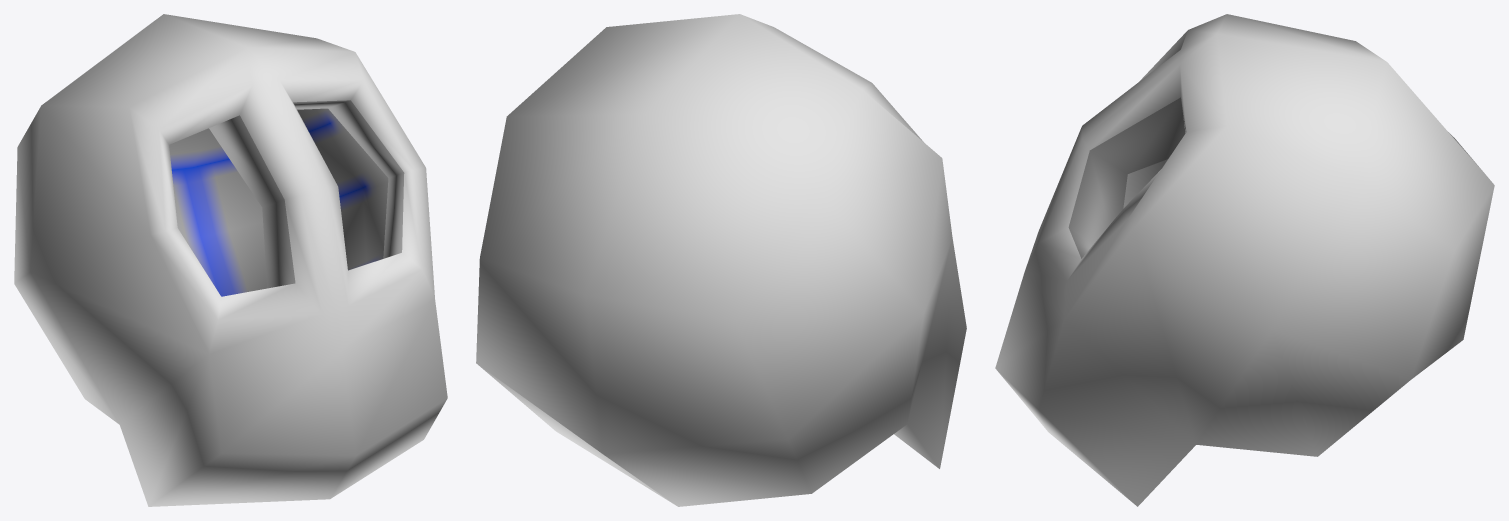
File: Skull1.fbx
3 views of the same model, side by side, from view 1: azimuth 30°, elevation 25°; view 2: azimuth 150°, elevation 25°; view 3: azimuth 270°, elevation 25° (orthographic). The views are drawn at different scales.
Parts seen in each view (by area): view 1: Cube; view 2: Cube; view 3: Cube.
Part boxes in pixels (<box>): Cube: <box>14,14,447,506</box>; Cube: <box>476,14,966,506</box>; Cube: <box>995,14,1494,506</box>.
Bounding box in the file's own units: 1.88 × 1.68 × 1.68.
